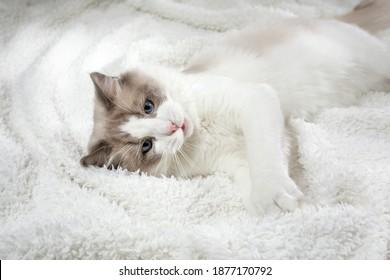ragdoll: (69, 56, 203, 190)
